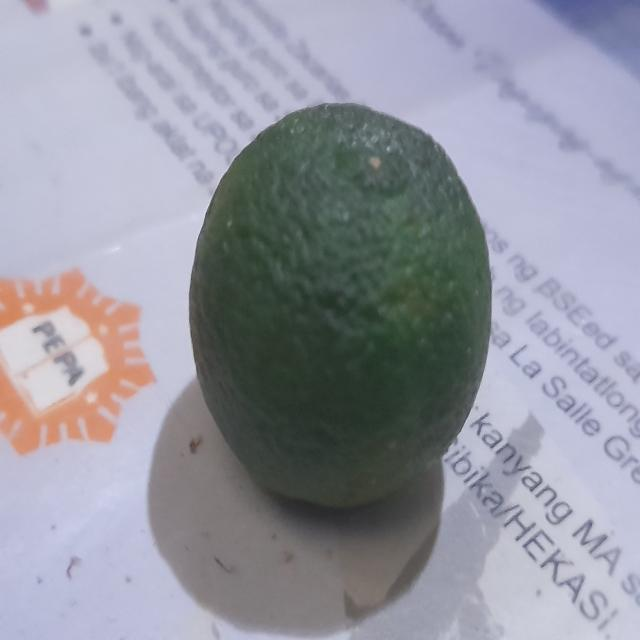heathy: (184, 96, 494, 518)
